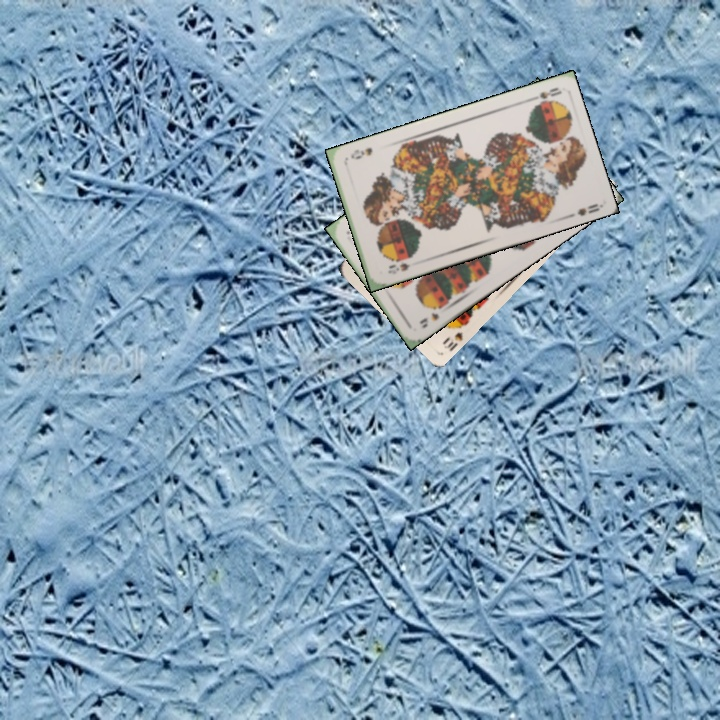S10: (438, 318, 468, 354)
S9: (415, 300, 447, 331)
SO: (523, 83, 563, 105), (384, 253, 416, 277)
